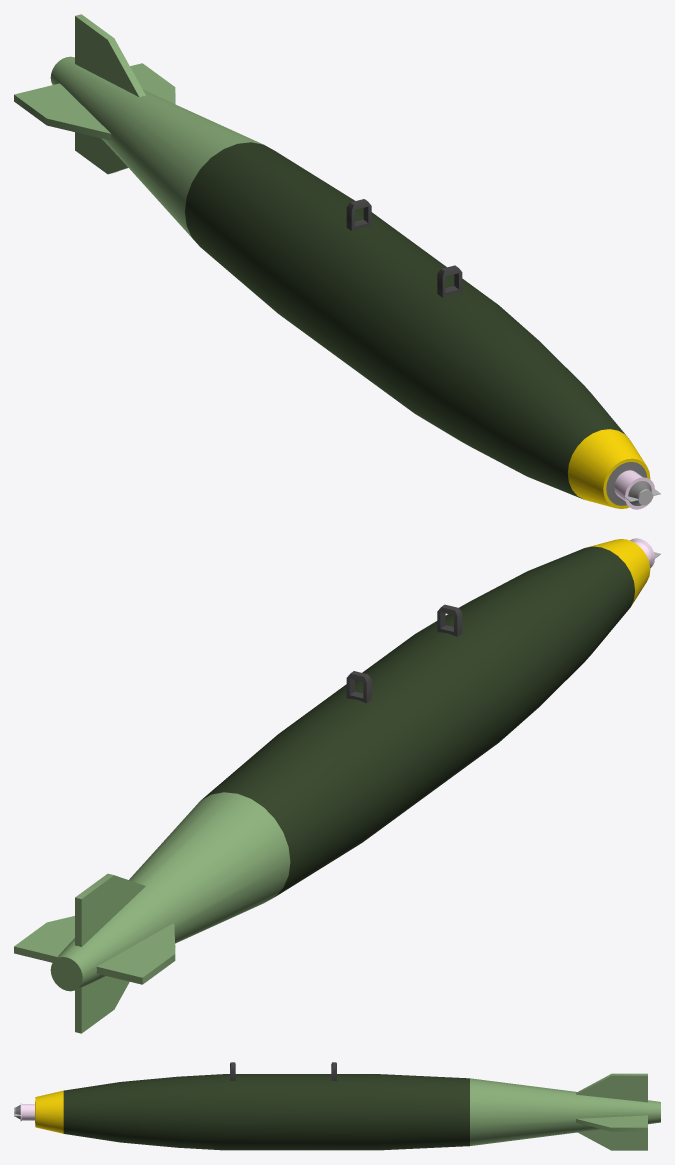
The model's file is MK-83 LDGP.glb.
3 renders of one model, top to bottom at view 1: azimuth 30°, elevation 25°; view 2: azimuth 150°, elevation 25°; view 3: azimuth 270°, elevation 25°, orthographic. The views are drawn at different scales.
Visible parts, largest first — view 1: Mk-82 Standard Tail; view 2: Mk-82 Standard Tail; view 3: Mk-82 Standard Tail.
Boxes of the visible parts, bbox=[...] form: Mk-82 Standard Tail: bbox=[14, 14, 660, 509]; Mk-82 Standard Tail: bbox=[14, 538, 660, 1033]; Mk-82 Standard Tail: bbox=[14, 1062, 660, 1150].
Size of the model in its own units: 0.3895 by 0.4438 by 3.04.
2 materials, 2 textured.
